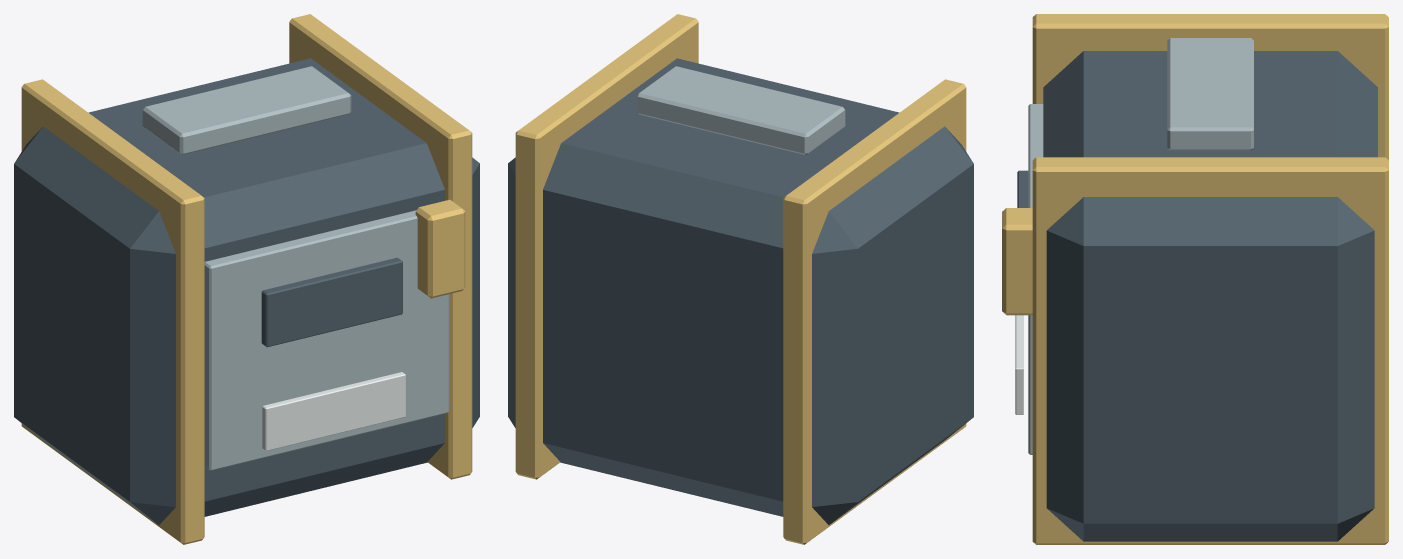
Rendered from chem_charge.glb.
3 views of the same model, side by side, from view 1: azimuth 30°, elevation 25°; view 2: azimuth 150°, elevation 25°; view 3: azimuth 270°, elevation 25° (orthographic). The views are drawn at different scales.
Visible parts, largest first — view 1: Sealed casing, Recessed fuse plate, Retention band, Retention band.001, Top handle, Fuse window, Warning label, Arming switch; view 2: Sealed casing, Retention band, Retention band.001, Top handle; view 3: Sealed casing, Retention band.001, Retention band, Top handle, Arming switch, Recessed fuse plate, Warning label.
Part boxes in pixels (x1,y1,x2,y2): Sealed casing: (14,58,479,524); Recessed fuse plate: (204,210,449,470); Retention band: (21,79,204,544); Retention band.001: (289,14,472,479); Top handle: (142,66,351,155); Fuse window: (261,257,402,347); Warning label: (262,372,405,450); Arming switch: (415,199,465,298); Sealed casing: (508,58,973,524); Retention band: (783,79,966,544); Retention band.001: (515,14,698,479); Top handle: (636,66,845,155); Sealed casing: (1043,51,1377,541); Retention band.001: (1032,157,1388,544); Retention band: (1032,14,1388,160); Top handle: (1167,38,1253,150); Arming switch: (1002,208,1032,315); Recessed fuse plate: (1028,104,1043,454); Warning label: (1015,315,1023,414).
Size of the model in its own units: 0.102 by 0.098 by 0.089.
